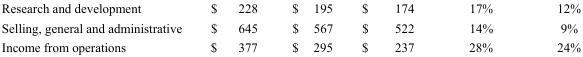table: (0, 0, 580, 53)
table column: (0, 0, 195, 53), (346, 0, 440, 53), (440, 0, 524, 53), (195, 0, 274, 53), (274, 0, 346, 53), (524, 0, 580, 53)
table column header: (0, 0, 580, 17)
table row: (0, 17, 580, 36), (0, 0, 580, 17), (0, 36, 580, 53)
